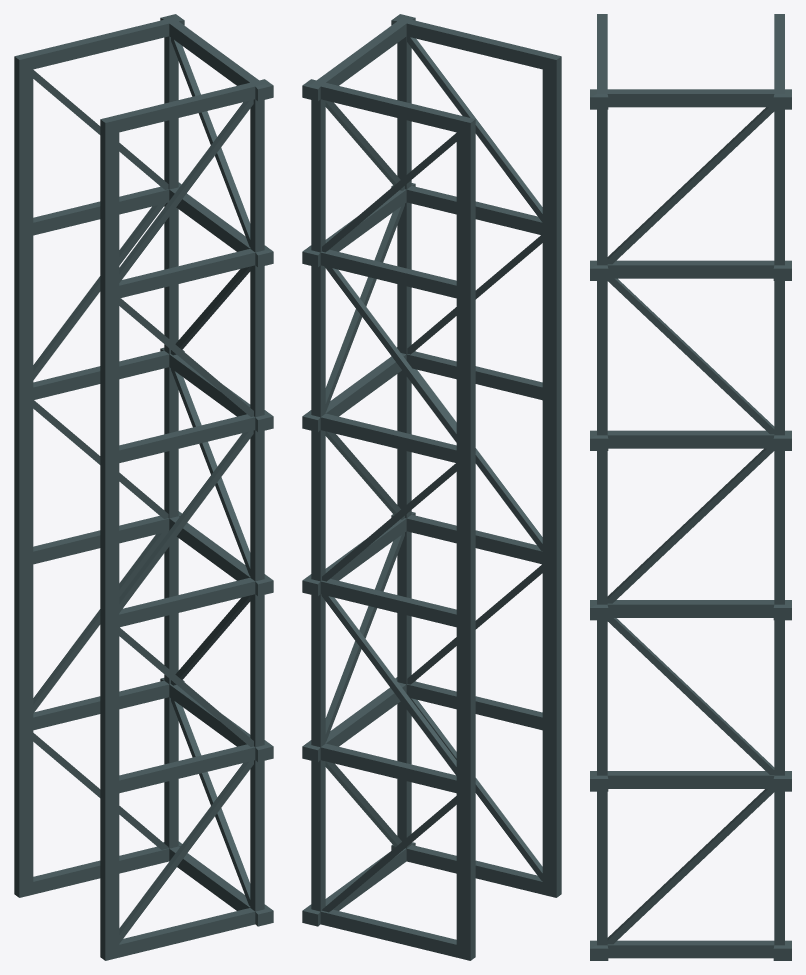
File: SM_Misc_04.fbx
3 views of the same model, side by side, from view 1: azimuth 30°, elevation 25°; view 2: azimuth 150°, elevation 25°; view 3: azimuth 270°, elevation 25° (orthographic). The views are drawn at different scales.
Parts seen in each view (by area): view 1: SM_Misc_04; view 2: SM_Misc_04; view 3: SM_Misc_04.
Part boxes in pixels (x1=…): SM_Misc_04: x1=14, y1=14, x2=273, y2=960; SM_Misc_04: x1=302, y1=14, x2=561, y2=960; SM_Misc_04: x1=590, y1=14, x2=791, y2=960.
Size of the model in its own units: 86.28 by 419 by 88.66.
Materials: 1 (1 with a texture image).
